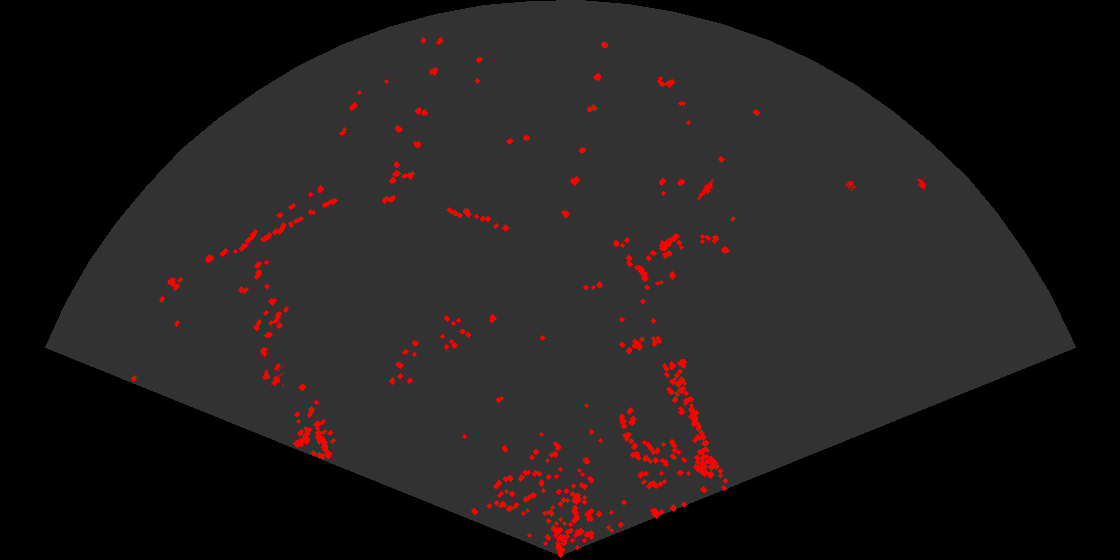AUV: (915, 176, 929, 191)
ball: (844, 179, 857, 193)
cage: (261, 365, 284, 389)
frogman: (695, 179, 715, 204)
